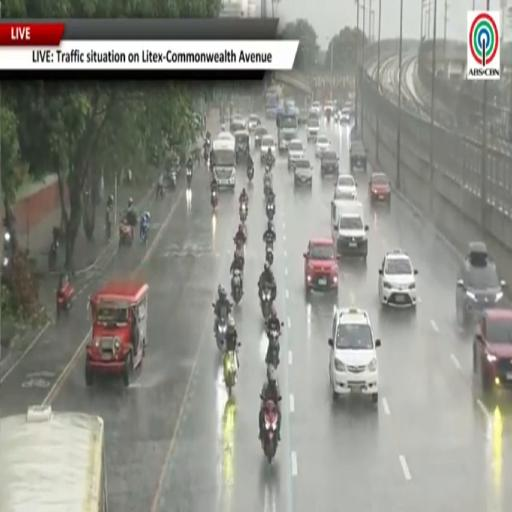bus: (0, 407, 107, 511), (213, 136, 236, 188)
car: (329, 309, 380, 404), (456, 242, 506, 327), (473, 309, 511, 392), (378, 250, 417, 308), (332, 200, 368, 261), (304, 238, 338, 294), (369, 172, 390, 204), (292, 157, 312, 187), (335, 174, 357, 199), (350, 140, 366, 172), (288, 139, 304, 169), (321, 150, 338, 177), (261, 134, 275, 162), (349, 125, 363, 150), (307, 115, 320, 141), (315, 135, 330, 157), (255, 125, 267, 148), (247, 113, 261, 132), (230, 118, 245, 133), (340, 107, 350, 123), (310, 102, 321, 114), (324, 102, 333, 115), (334, 110, 340, 121)
jeepney: (86, 280, 148, 386)
motorcycle: (262, 400, 278, 463), (57, 281, 75, 318), (224, 350, 237, 396), (265, 330, 279, 367), (216, 311, 227, 350), (261, 284, 272, 321), (231, 269, 242, 305), (119, 222, 134, 247), (48, 239, 58, 271), (3, 232, 11, 267), (140, 222, 149, 244), (235, 248, 244, 270), (106, 210, 112, 242), (265, 244, 273, 265), (266, 202, 275, 220), (264, 178, 272, 198), (234, 237, 244, 253), (240, 203, 247, 222), (211, 190, 218, 209), (156, 184, 164, 199), (186, 168, 192, 187), (170, 171, 176, 190), (248, 166, 254, 181), (326, 110, 331, 122)
truck: (277, 107, 298, 153), (265, 85, 283, 119)
